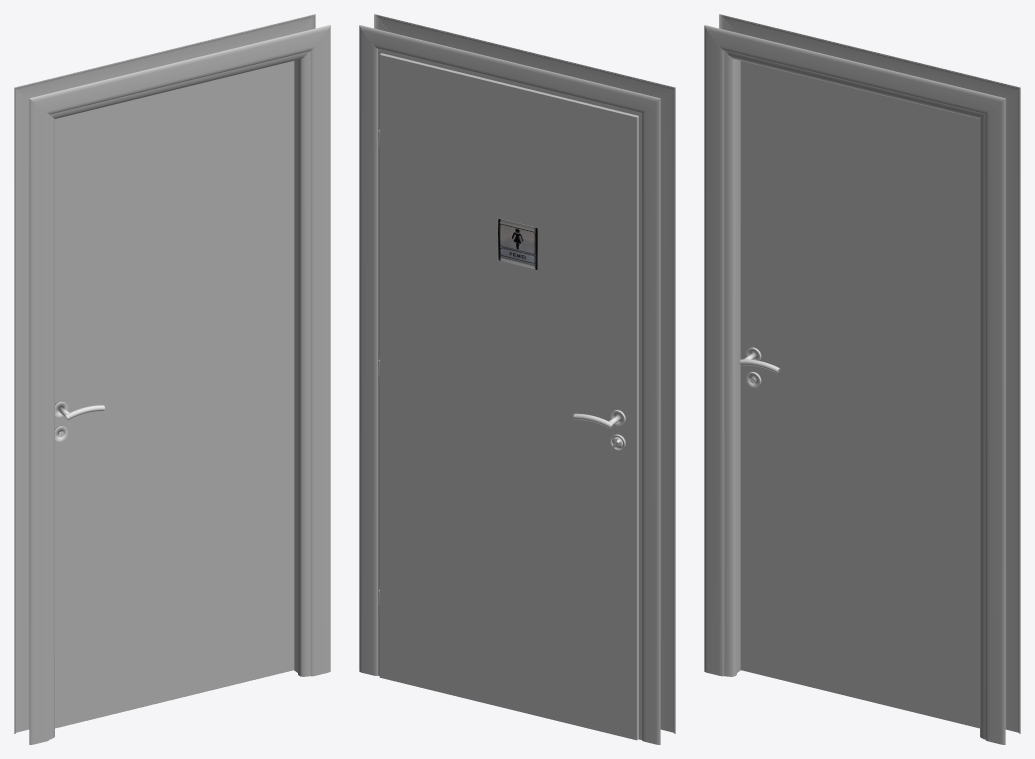
Rendered from usa_baie_f.fbx.
3 renders of one model, left to right at view 1: azimuth 30°, elevation 25°; view 2: azimuth 150°, elevation 25°; view 3: azimuth 330°, elevation 25°, orthographic.
Parts seen in each view (by area): view 1: Plane, door MF frame; view 2: Plane, door MF frame; view 3: Plane, door MF frame.
Part boxes in pixels (x1,y1,x2,y2): Plane: (55, 61, 294, 728); door MF frame: (14, 14, 330, 744); Plane: (378, 53, 638, 740); door MF frame: (359, 14, 675, 744); Plane: (739, 61, 979, 728); door MF frame: (704, 14, 1020, 744).
Size of the model in its own units: 103 by 211 by 17.38.
